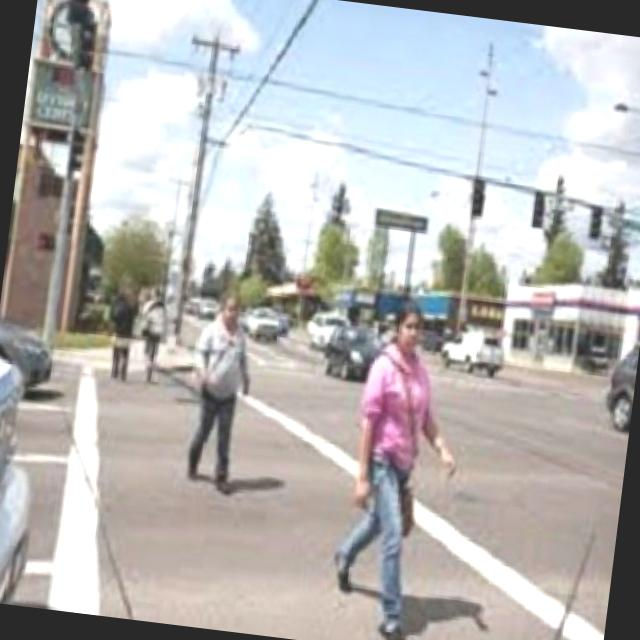Person: (321, 293, 477, 640), (175, 286, 268, 500)
